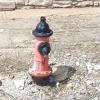a fire hydrant: (30, 16, 53, 78)
